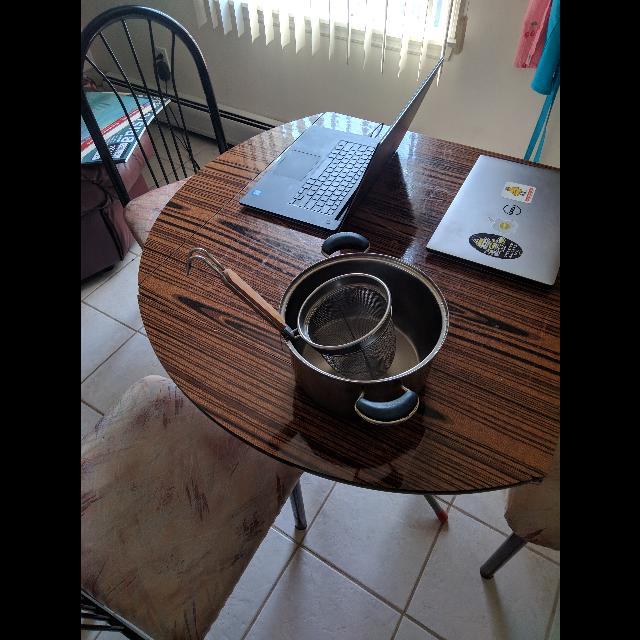Handle: (184, 243, 297, 347)
Strainer: (294, 269, 395, 356)
